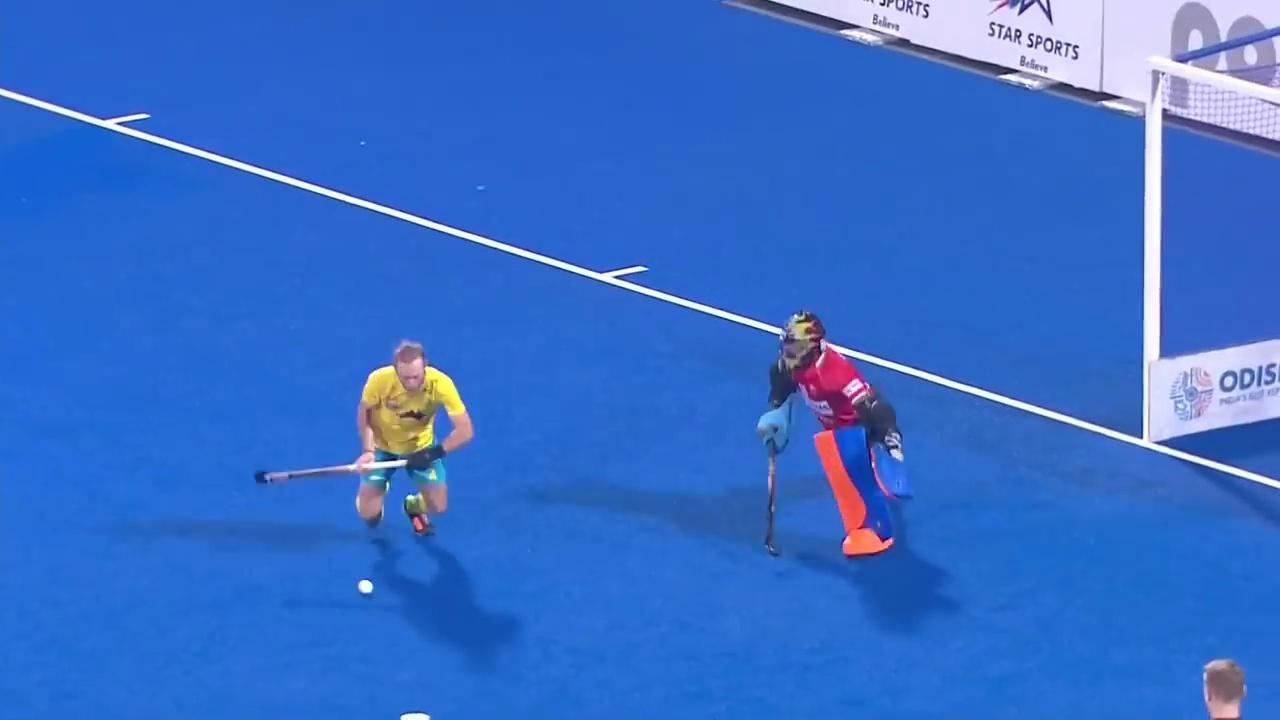ball: (350, 555, 390, 604)
